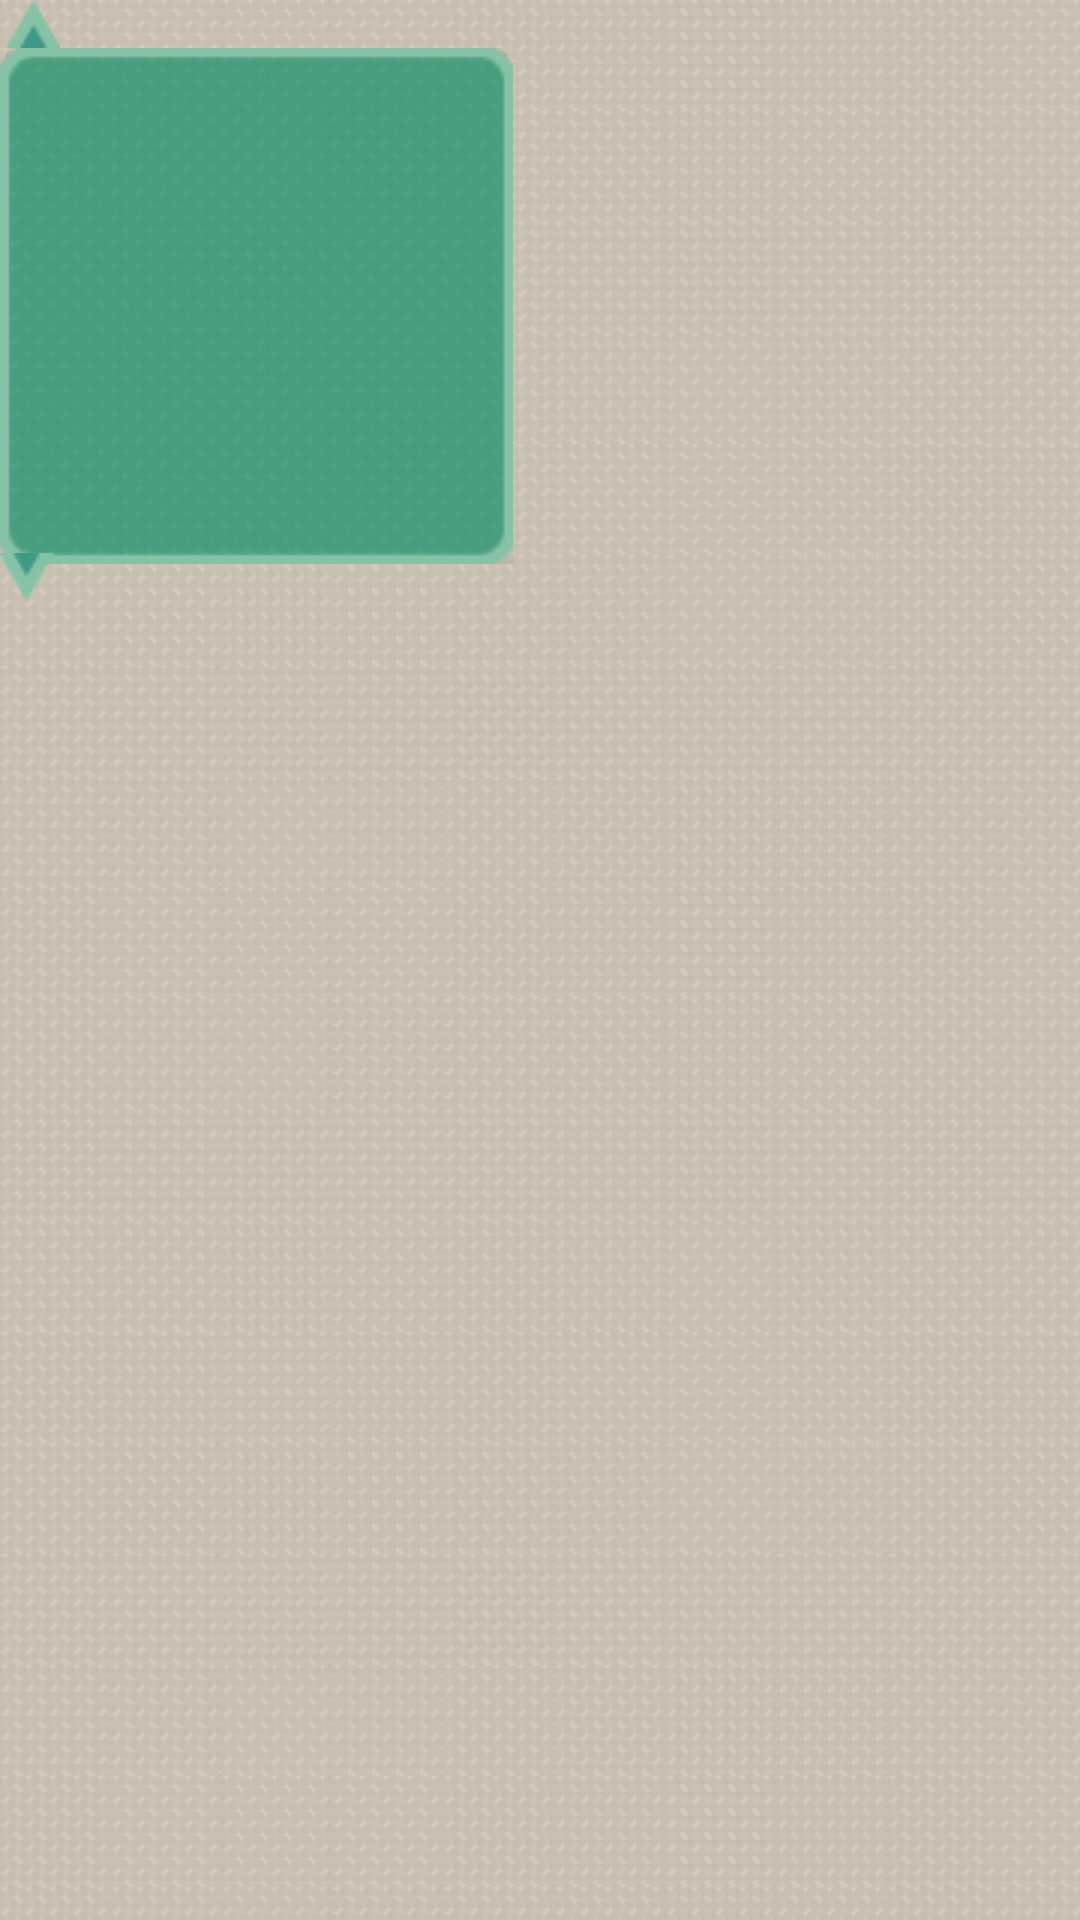

Named icons in this screenshot (1080*1920) and their centers, (x,y):
arrow down: (30,577)
arrow up: (30,24)
